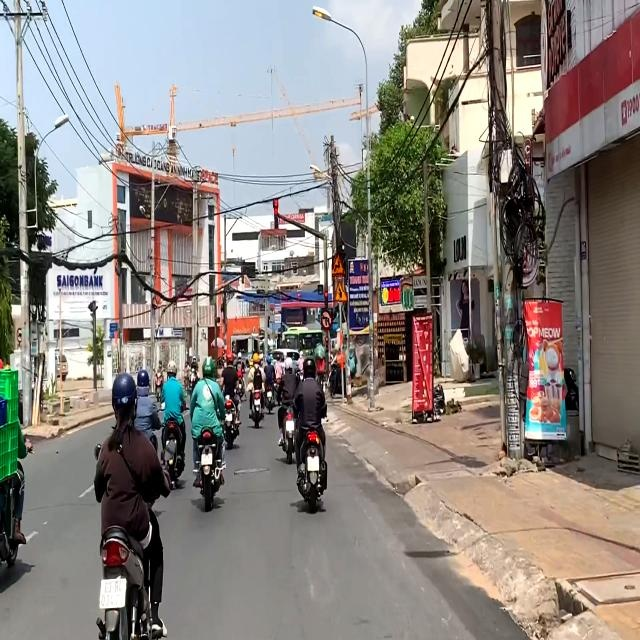bien_cam: (333, 279, 348, 302), (332, 254, 346, 278), (322, 308, 334, 330)
